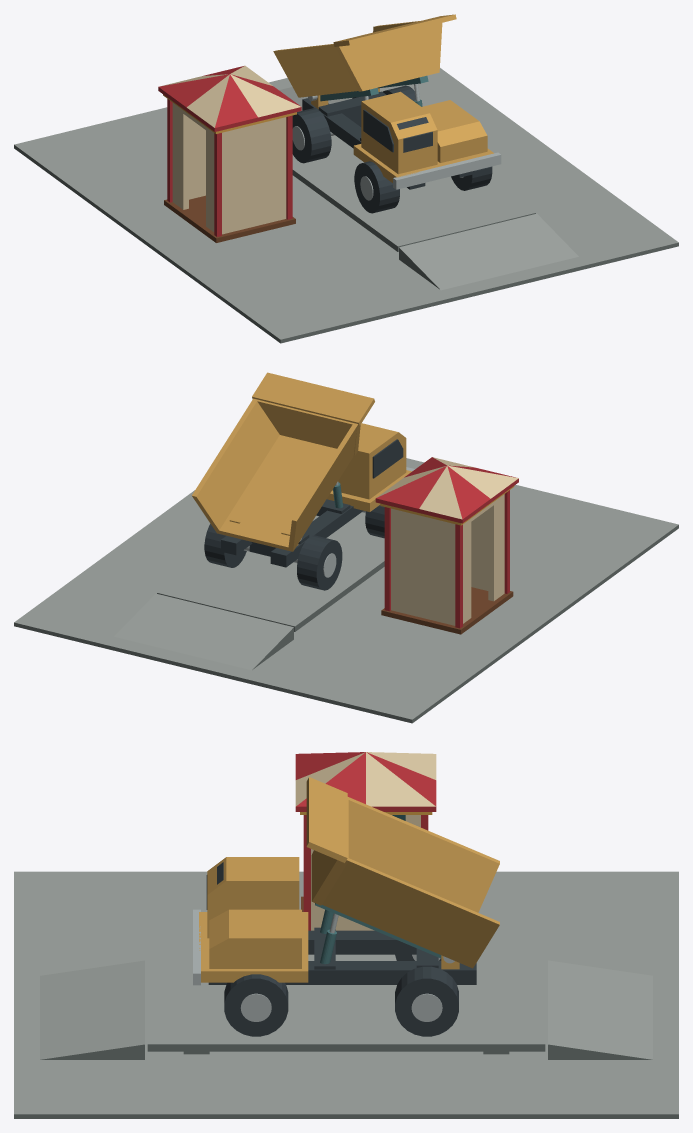
3 views of the same model, one above another, from view 1: azimuth 30°, elevation 25°; view 2: azimuth 150°, elevation 25°; view 3: azimuth 270°, elevation 25° (orthographic). The views are drawn at different scales.
Visible parts, largest first — view 1: SCENE_ONLY__DisplayFloor, booth__Body_ThickOpenWallShell, booth__Roof_StripedHipSolid, truck__WholeTallFrontHeadboard, truck__WholeOffsetLeftCab, truck__WholeRaisedRearOpenBody, truck__WholeRightPowerHood, truck__WholeRigidLongChassis, truck__WholeHeavyTyreLeft1, booth__Base_GroundPlinth, truck__WholeHeavyTyreLeft0, truck__WholeFrontBluntBumper (+8 smaller); view 2: SCENE_ONLY__DisplayFloor, truck__WholeRaisedRearOpenBody, booth__Body_ThickOpenWallShell, booth__Roof_StripedHipSolid, truck__WholeForwardBodyCanopy, truck__WholeOffsetLeftCab, truck__WholeTallFrontHeadboard, truck__WholeRigidLongChassis, truck__WholeHeavyTyreLeft1, booth__Base_GroundPlinth, truck__WholeHeavyTyreRight1, booth__Post_RightBack (+5 smaller); view 3: SCENE_ONLY__DisplayFloor, truck__WholeRaisedRearOpenBody, booth__Roof_StripedHipSolid, truck__WholeRigidLongChassis, truck__WholeRightPowerHood, truck__WholeOffsetLeftCab, truck__WholeHeavyTyreRight1, truck__WholeForwardBodyCanopy, truck__WholeHeavyTyreRight0, truck__WholeFrontPlatform, truck__WholeTallFrontHeadboard, booth__Body_ThickOpenWallShell (+4 smaller).
Part boxes in pixels (left/top/right/bottom): SCENE_ONLY__DisplayFloor: left=14, top=68, right=678, bottom=343; booth__Body_ThickOpenWallShell: left=172, top=103, right=286, bottom=234; booth__Roof_StripedHipSolid: left=158, top=65, right=301, bottom=131; truck__WholeTallFrontHeadboard: left=335, top=23, right=442, bottom=91; truck__WholeOffsetLeftCab: left=361, top=91, right=437, bottom=174; truck__WholeRaisedRearOpenBody: left=273, top=21, right=419, bottom=97; truck__WholeRightPowerHood: left=422, top=100, right=487, bottom=162; truck__WholeRigidLongChassis: left=302, top=91, right=474, bottom=189; truck__WholeHeavyTyreLeft1: left=292, top=108, right=331, bottom=163; booth__Base_GroundPlinth: left=164, top=195, right=295, bottom=242; truck__WholeHeavyTyreLeft0: left=354, top=161, right=399, bottom=213; truck__WholeFrontBluntBumper: left=393, top=152, right=501, bottom=189; SCENE_ONLY__DisplayFloor: left=14, top=458, right=678, bottom=723; truck__WholeRaisedRearOpenBody: left=192, top=398, right=357, bottom=551; booth__Body_ThickOpenWallShell: left=391, top=494, right=504, bottom=625; booth__Roof_StripedHipSolid: left=375, top=457, right=518, bottom=523; truck__WholeForwardBodyCanopy: left=252, top=372, right=374, bottom=425; truck__WholeOffsetLeftCab: left=332, top=423, right=406, bottom=499; truck__WholeTallFrontHeadboard: left=257, top=399, right=360, bottom=456; truck__WholeRigidLongChassis: left=221, top=499, right=363, bottom=567; truck__WholeHeavyTyreLeft1: left=297, top=535, right=342, bottom=590; booth__Base_GroundPlinth: left=381, top=587, right=513, bottom=634; truck__WholeHeavyTyreRight1: left=204, top=524, right=246, bottom=567; booth__Post_RightBack: left=455, top=524, right=462, bottom=628; SCENE_ONLY__DisplayFloor: left=14, top=871, right=678, bottom=1118; truck__WholeRaisedRearOpenBody: left=322, top=797, right=499, bottom=968; booth__Roof_StripedHipSolid: left=295, top=752, right=436, bottom=811; truck__WholeRigidLongChassis: left=208, top=927, right=476, bottom=984; truck__WholeRightPowerHood: left=209, top=909, right=301, bottom=968; truck__WholeOffsetLeftCab: left=207, top=857, right=299, bottom=938; truck__WholeHeavyTyreRight1: left=395, top=966, right=458, bottom=1036; truck__WholeForwardBodyCanopy: left=306, top=777, right=347, bottom=862; truck__WholeHeavyTyreRight0: left=224, top=974, right=288, bottom=1036; truck__WholeFrontPlatform: left=199, top=912, right=308, bottom=982; truck__WholeTallFrontHeadboard: left=311, top=800, right=348, bottom=905; booth__Body_ThickOpenWallShell: left=311, top=815, right=420, bottom=930.
Bounding box in the file's own units: 8.8 × 3.61 × 10.2.
